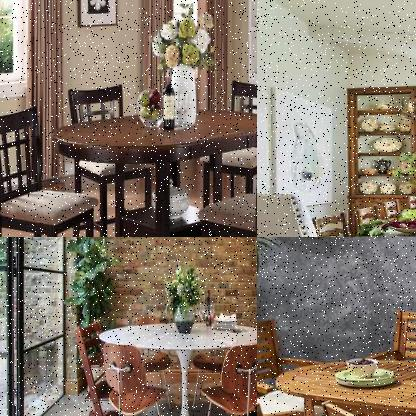table: (49, 103, 256, 236), (96, 308, 256, 415), (274, 355, 415, 415)
